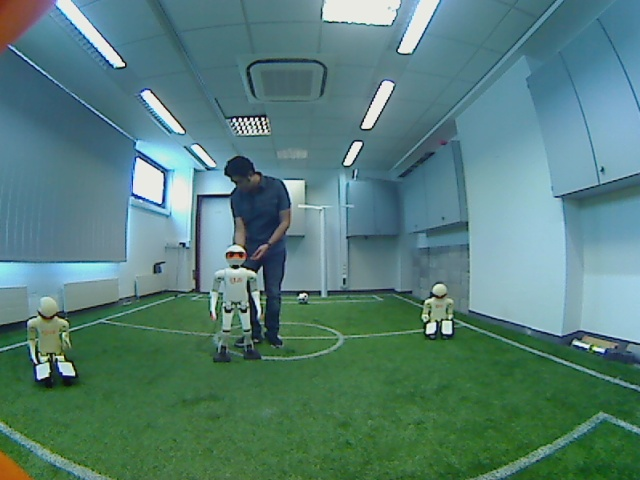ball: (293, 289, 315, 309)
robot: (204, 243, 266, 365), (19, 291, 88, 387), (413, 281, 461, 347)
